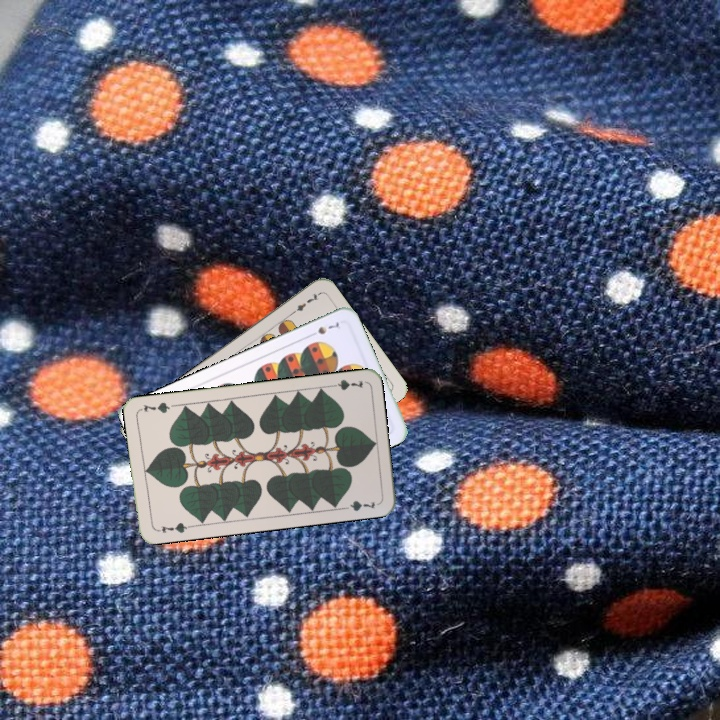E7: (287, 289, 322, 318)
G7: (325, 375, 366, 393), (152, 519, 193, 536)
S7: (305, 318, 342, 339)
